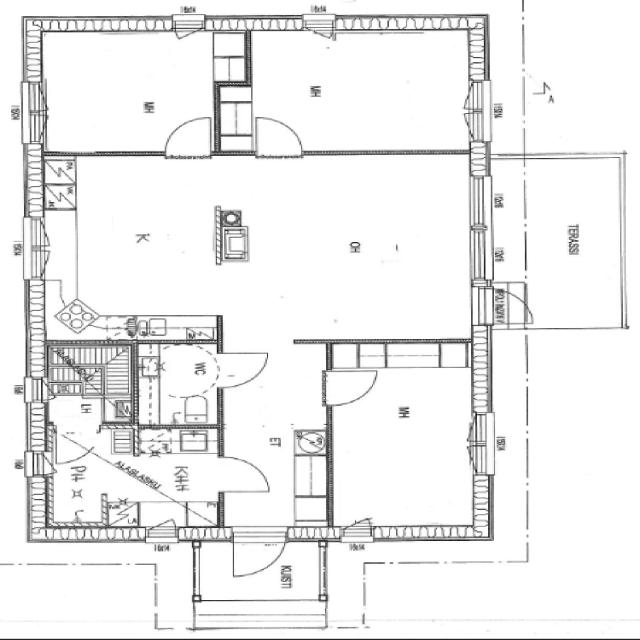door: (228, 527, 288, 582), (214, 453, 273, 497), (252, 113, 308, 158), (214, 348, 272, 390), (160, 114, 214, 158), (321, 368, 379, 408), (52, 428, 98, 466), (339, 516, 377, 544), (143, 517, 180, 542), (302, 15, 336, 41), (170, 18, 207, 39)
window: (464, 408, 498, 479), (21, 213, 53, 285), (20, 79, 50, 149), (461, 77, 491, 143), (464, 223, 495, 286), (464, 172, 494, 234), (169, 15, 207, 34)
zone: (224, 154, 482, 342), (44, 155, 230, 340), (240, 31, 479, 154), (326, 354, 489, 530), (33, 30, 229, 154), (520, 154, 625, 329), (42, 430, 222, 529), (136, 342, 220, 427)
